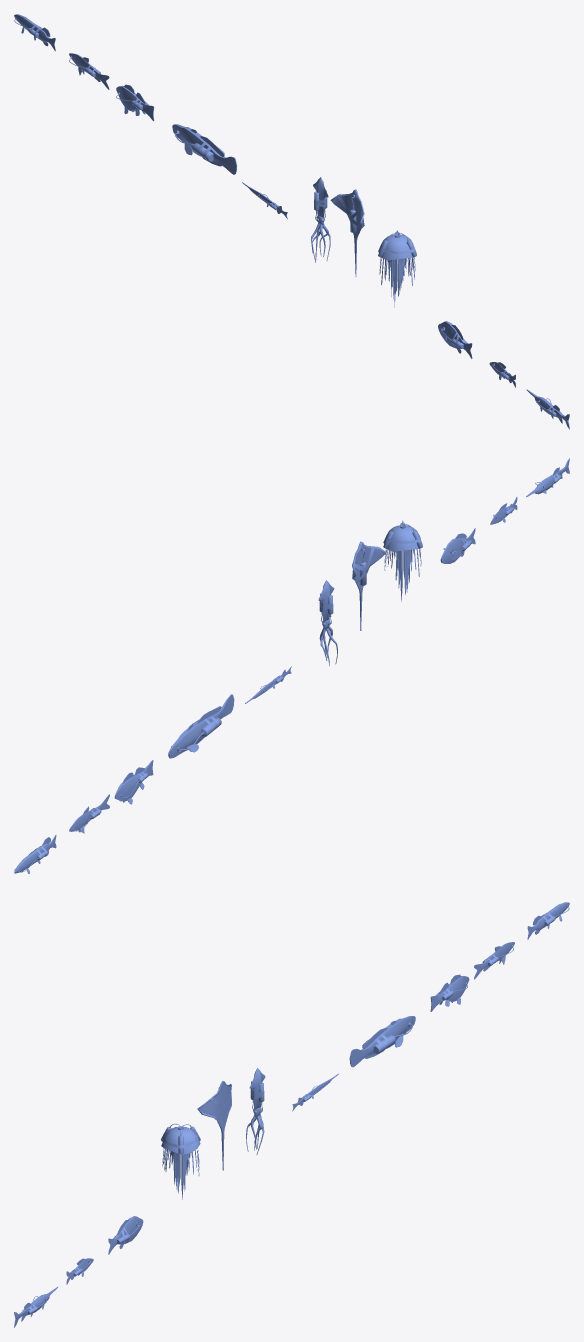
The model's file is fish_oxy.fbx.
The picture shows the model from 3 angles, top to bottom: view 1: azimuth 30°, elevation 25°; view 2: azimuth 150°, elevation 25°; view 3: azimuth 330°, elevation 25°; orthographic projection.
Parts seen in each view (by area): view 1: fish_oxy.006, fish_oxy.003, fish_oxy.005, fish_oxy.010, fish_oxy.002, fish_oxy.007, fish_oxy; view 2: fish_oxy.006, fish_oxy.003, fish_oxy.005, fish_oxy.010, fish_oxy.002, fish_oxy.007, fish_oxy; view 3: fish_oxy.006, fish_oxy.003, fish_oxy.005, fish_oxy.010, fish_oxy.002, fish_oxy.007, fish_oxy.
Boxes of the visible parts, x1,y1,x2,y2 form: fish_oxy.006: (378,230,416,307); fish_oxy.003: (172,124,237,174); fish_oxy.005: (330,189,364,276); fish_oxy.010: (311,177,330,262); fish_oxy.002: (116,84,154,121); fish_oxy.007: (438,321,472,358); fish_oxy: (14,14,55,51); fish_oxy.006: (383,520,422,601); fish_oxy.003: (168,694,234,758); fish_oxy.005: (352,541,386,630); fish_oxy.010: (318,580,337,665); fish_oxy.002: (114,760,153,804); fish_oxy.007: (440,528,475,563); fish_oxy: (14,834,56,873); fish_oxy.006: (161,1123,200,1199); fish_oxy.003: (349,1016,415,1067); fish_oxy.005: (197,1081,231,1170); fish_oxy.010: (246,1068,265,1154); fish_oxy.002: (430,974,469,1011); fish_oxy.007: (108,1216,143,1254); fish_oxy: (527,902,569,939).
Bounding box in the file's own units: 58.64 × 149 × 1554.
